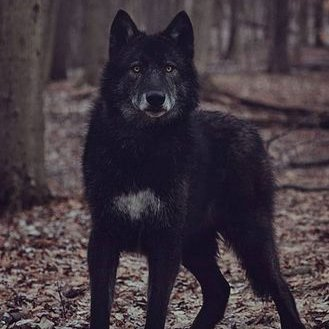Lobo: (79, 4, 303, 323)
